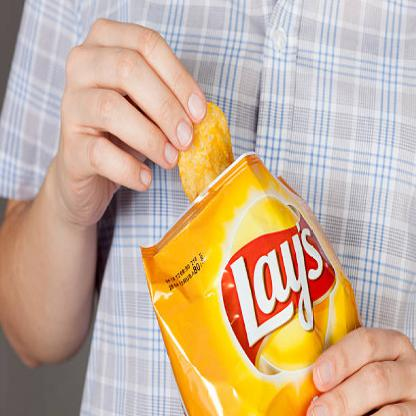potatochip: (136, 138, 372, 415)
